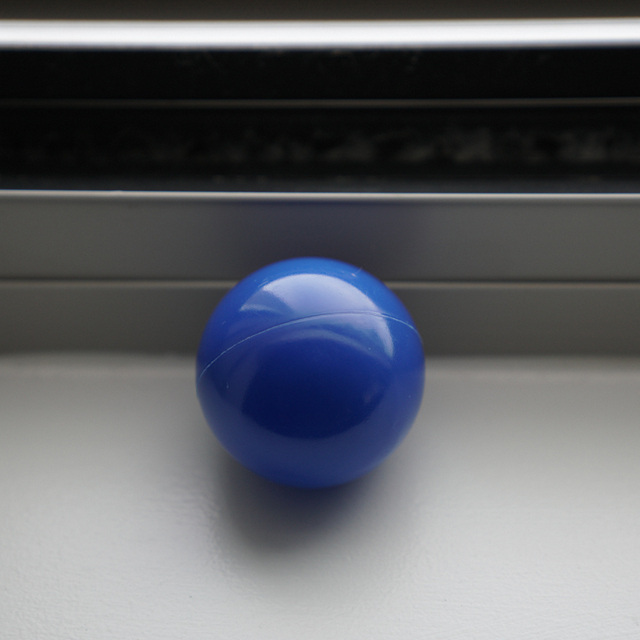Ball: (196, 258, 425, 490)
